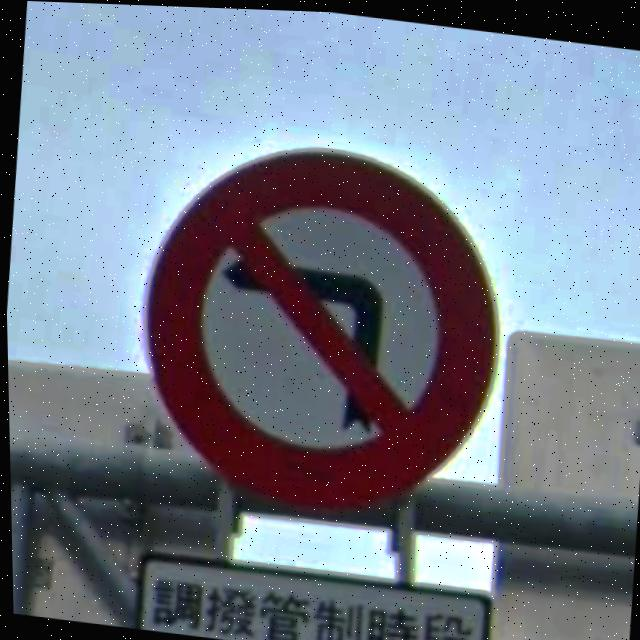noturnleft: (121, 121, 517, 533)
